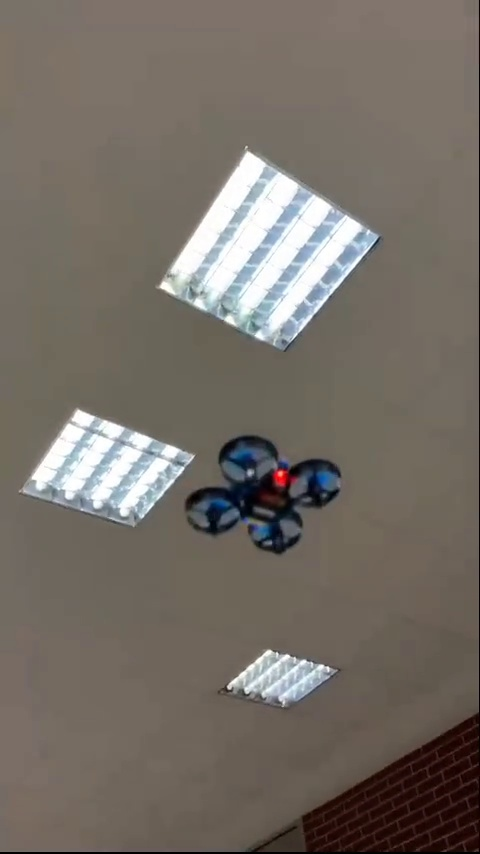drone: (190, 439, 340, 558)
